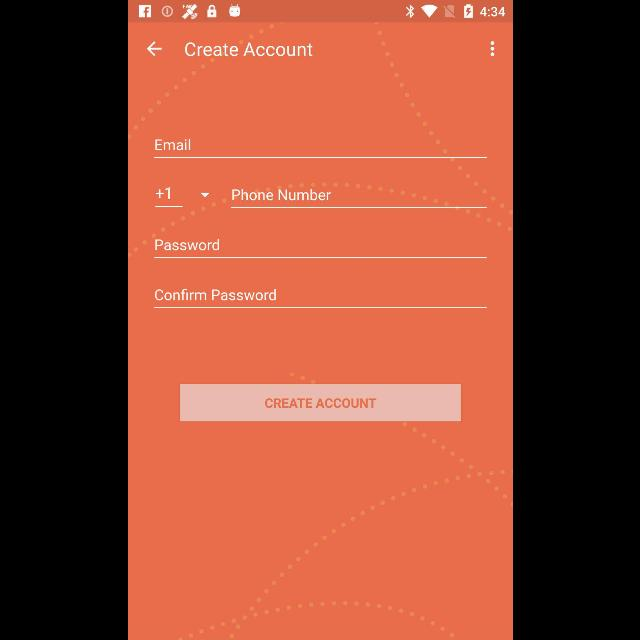icon: (146, 41, 162, 57), (198, 192, 210, 198), (490, 41, 494, 57)
input: (154, 139, 486, 159), (154, 288, 486, 308), (154, 240, 486, 258), (230, 190, 486, 208), (154, 186, 182, 208)
text: (184, 42, 312, 58), (154, 289, 276, 301), (232, 189, 331, 201), (154, 239, 218, 251), (154, 139, 190, 151), (155, 187, 169, 199)
textbutton: (180, 384, 460, 422)
uppertaskbar: (128, 1, 512, 23)
